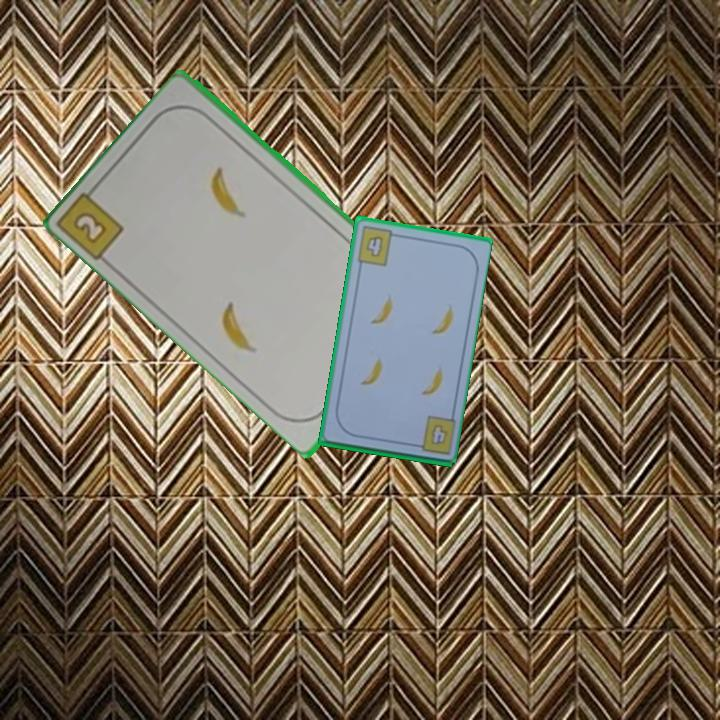2b: (69, 207, 110, 247)
4b: (353, 223, 401, 269), (427, 420, 450, 448)
